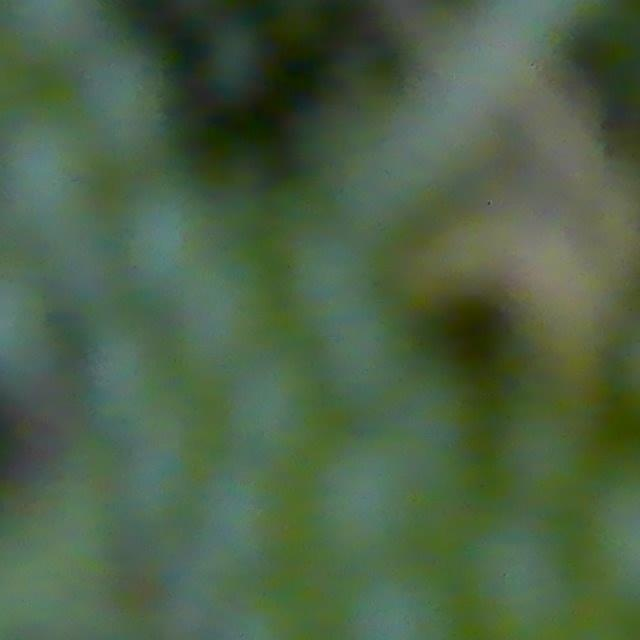SeaGrape: (458, 520, 580, 640), (308, 438, 421, 559), (176, 246, 268, 384), (101, 166, 206, 283), (216, 364, 319, 476), (191, 468, 291, 581), (282, 226, 380, 328), (126, 416, 211, 527), (80, 54, 176, 150), (89, 329, 176, 425), (5, 125, 84, 204), (200, 22, 270, 101)
